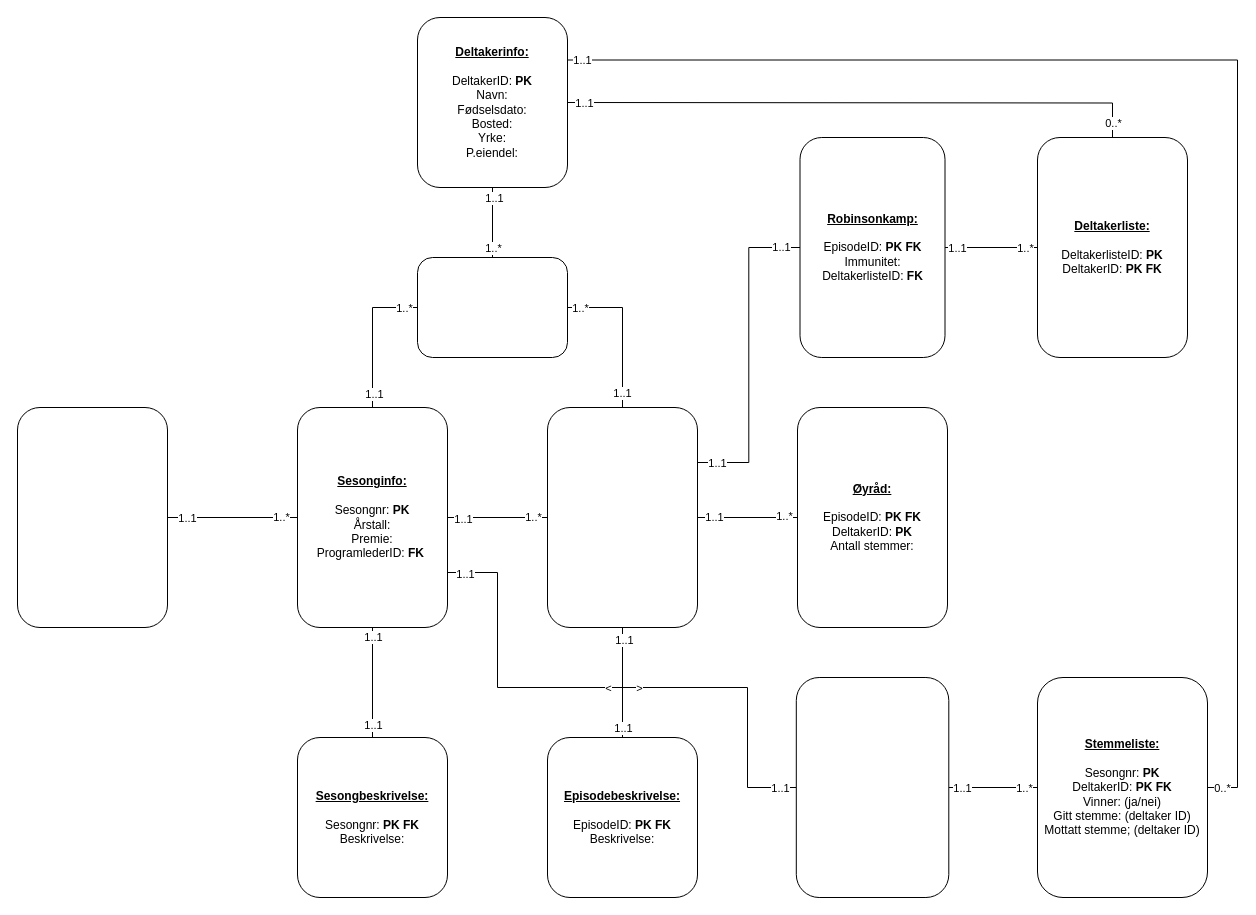
Image size: 1256x915. Some labels were removed from this diagram. The shapes that lost their labels are listed below. From the top down, each one's centre as x and y in pixels, then its label:
the point at 492,307: Deltakerbidrag: Sesongnr: PK FK EpisodeID: PK FK DeltakerID: PK FK
the point at 92,517: Programlederinfo: ProgramlederID: PK Fornavn: Etternavn: Fødselsdato:
the point at 622,517: Episodeinfo: EpisodeID: PK Episodenr: premieredato: Sesongnr: FK
the point at 872,787: Sluttavstemmingen: Sesongnr: PK FK FK DeltakerID: FK Vinner: (Navn)
